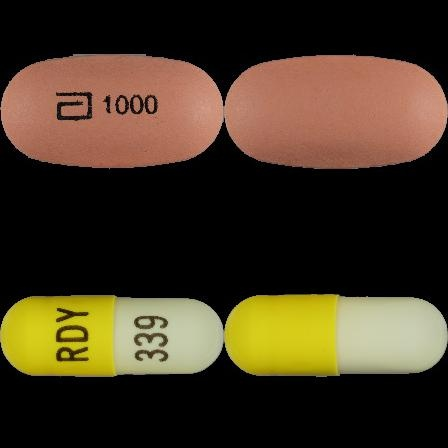21695-865: (0, 0, 224, 224)
